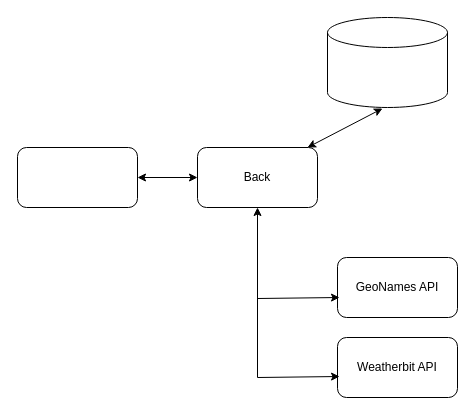
The diagram is 475 pixels wide and 415 high, and some of its shapes have lost their labels. Each missing label, with the centre of its shape:
Front: the point at 77,177
Knowledge base (outfit): the point at 387,62
